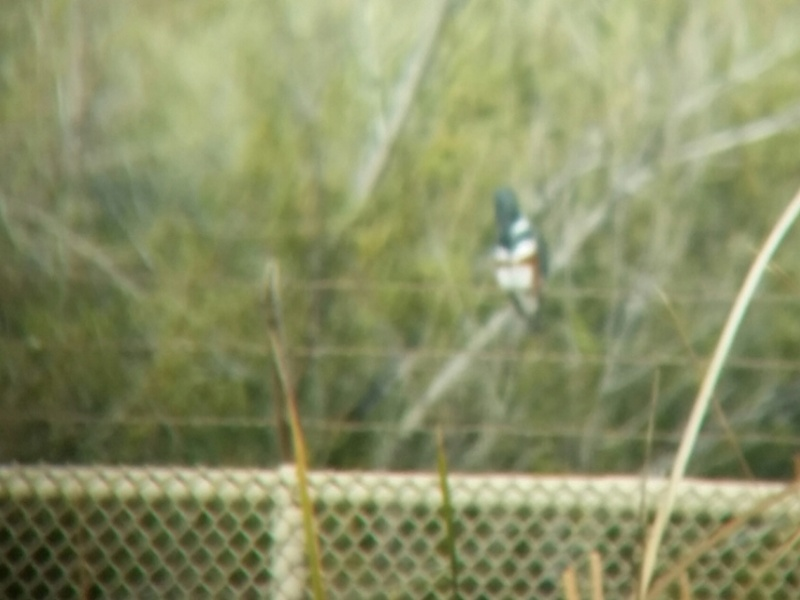kingfisher: (488, 190, 549, 332)
